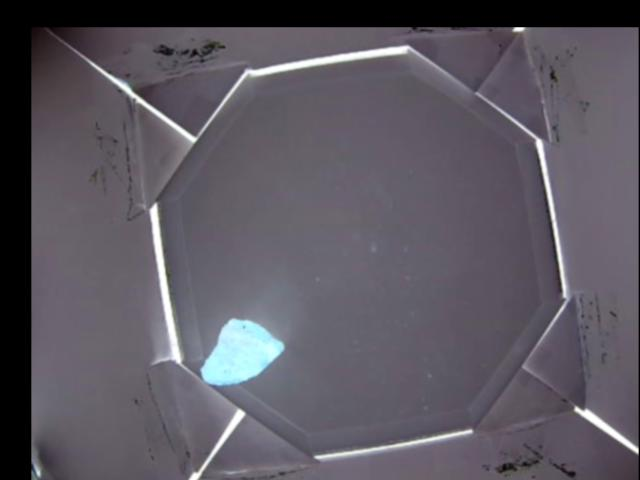Brisk: (198, 318, 285, 385)
